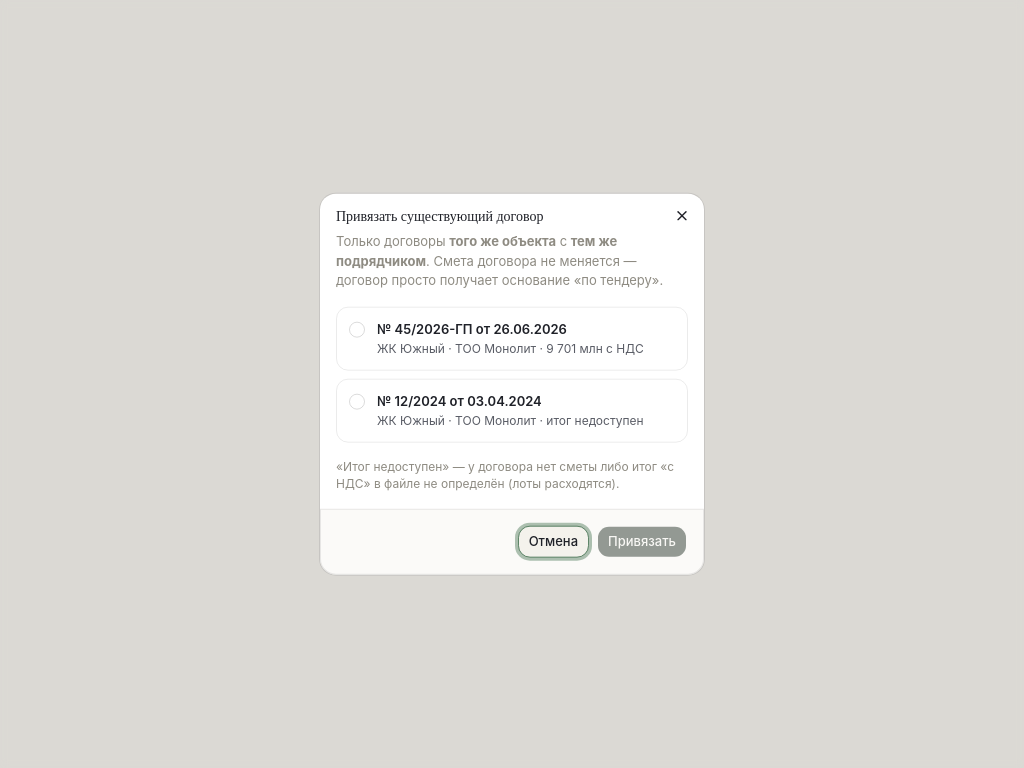
Test: LinkContractDialog › отказ сервера показан его текстом, окно остаётся открытым, выбор сохраняется
Click the radio button named "№ 12/2024" next to "12/2024": (357,402) x1=349 y1=394 x2=365 y2=410
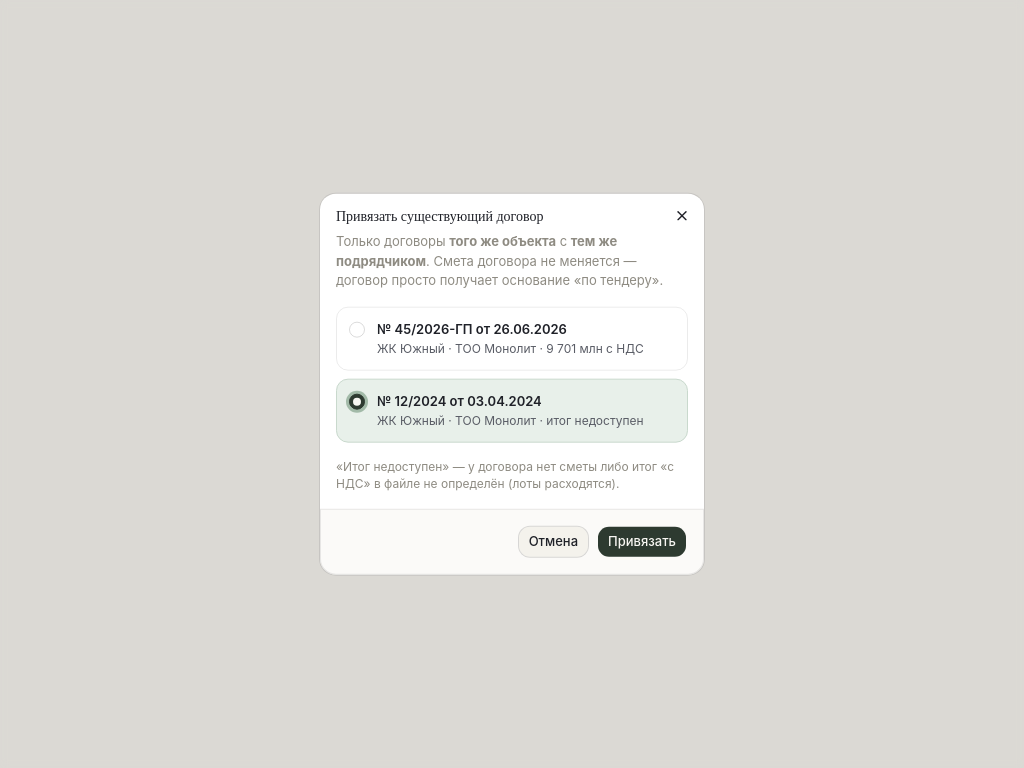
Click the button "Привязать": (642,541) x1=597 y1=525 x2=687 y2=557
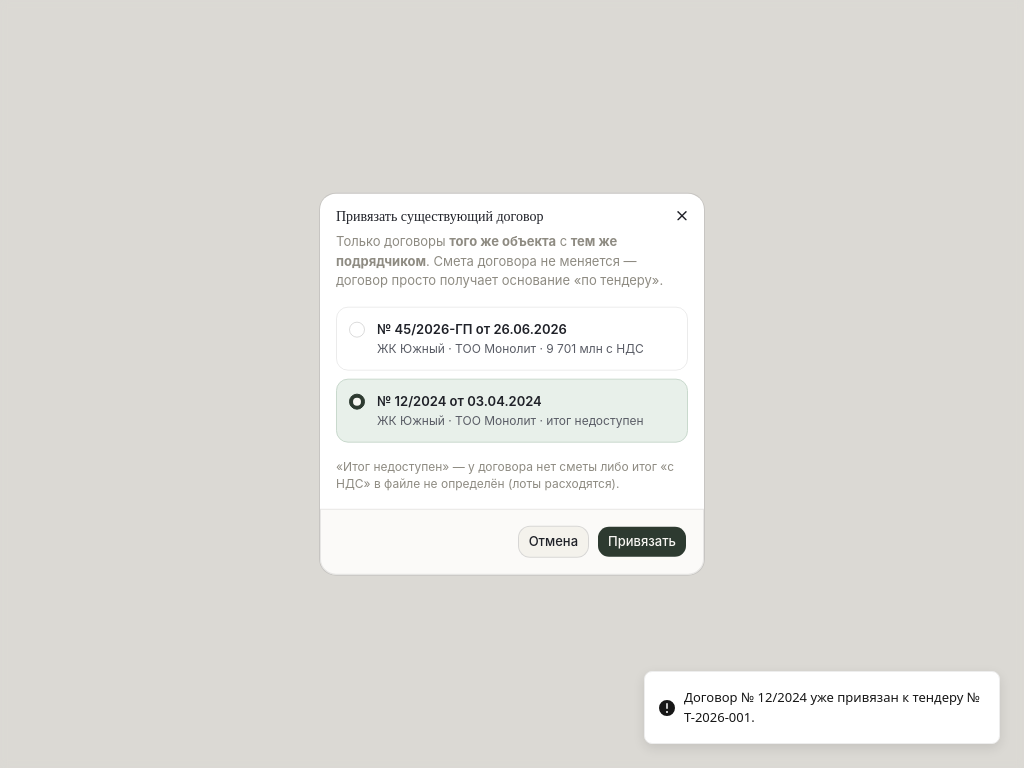
Expected: the text "Договор № 12/2024 уже привязан к тендеру № Т-2026-001." is shown, x1=684 y1=688 x2=983 y2=727
